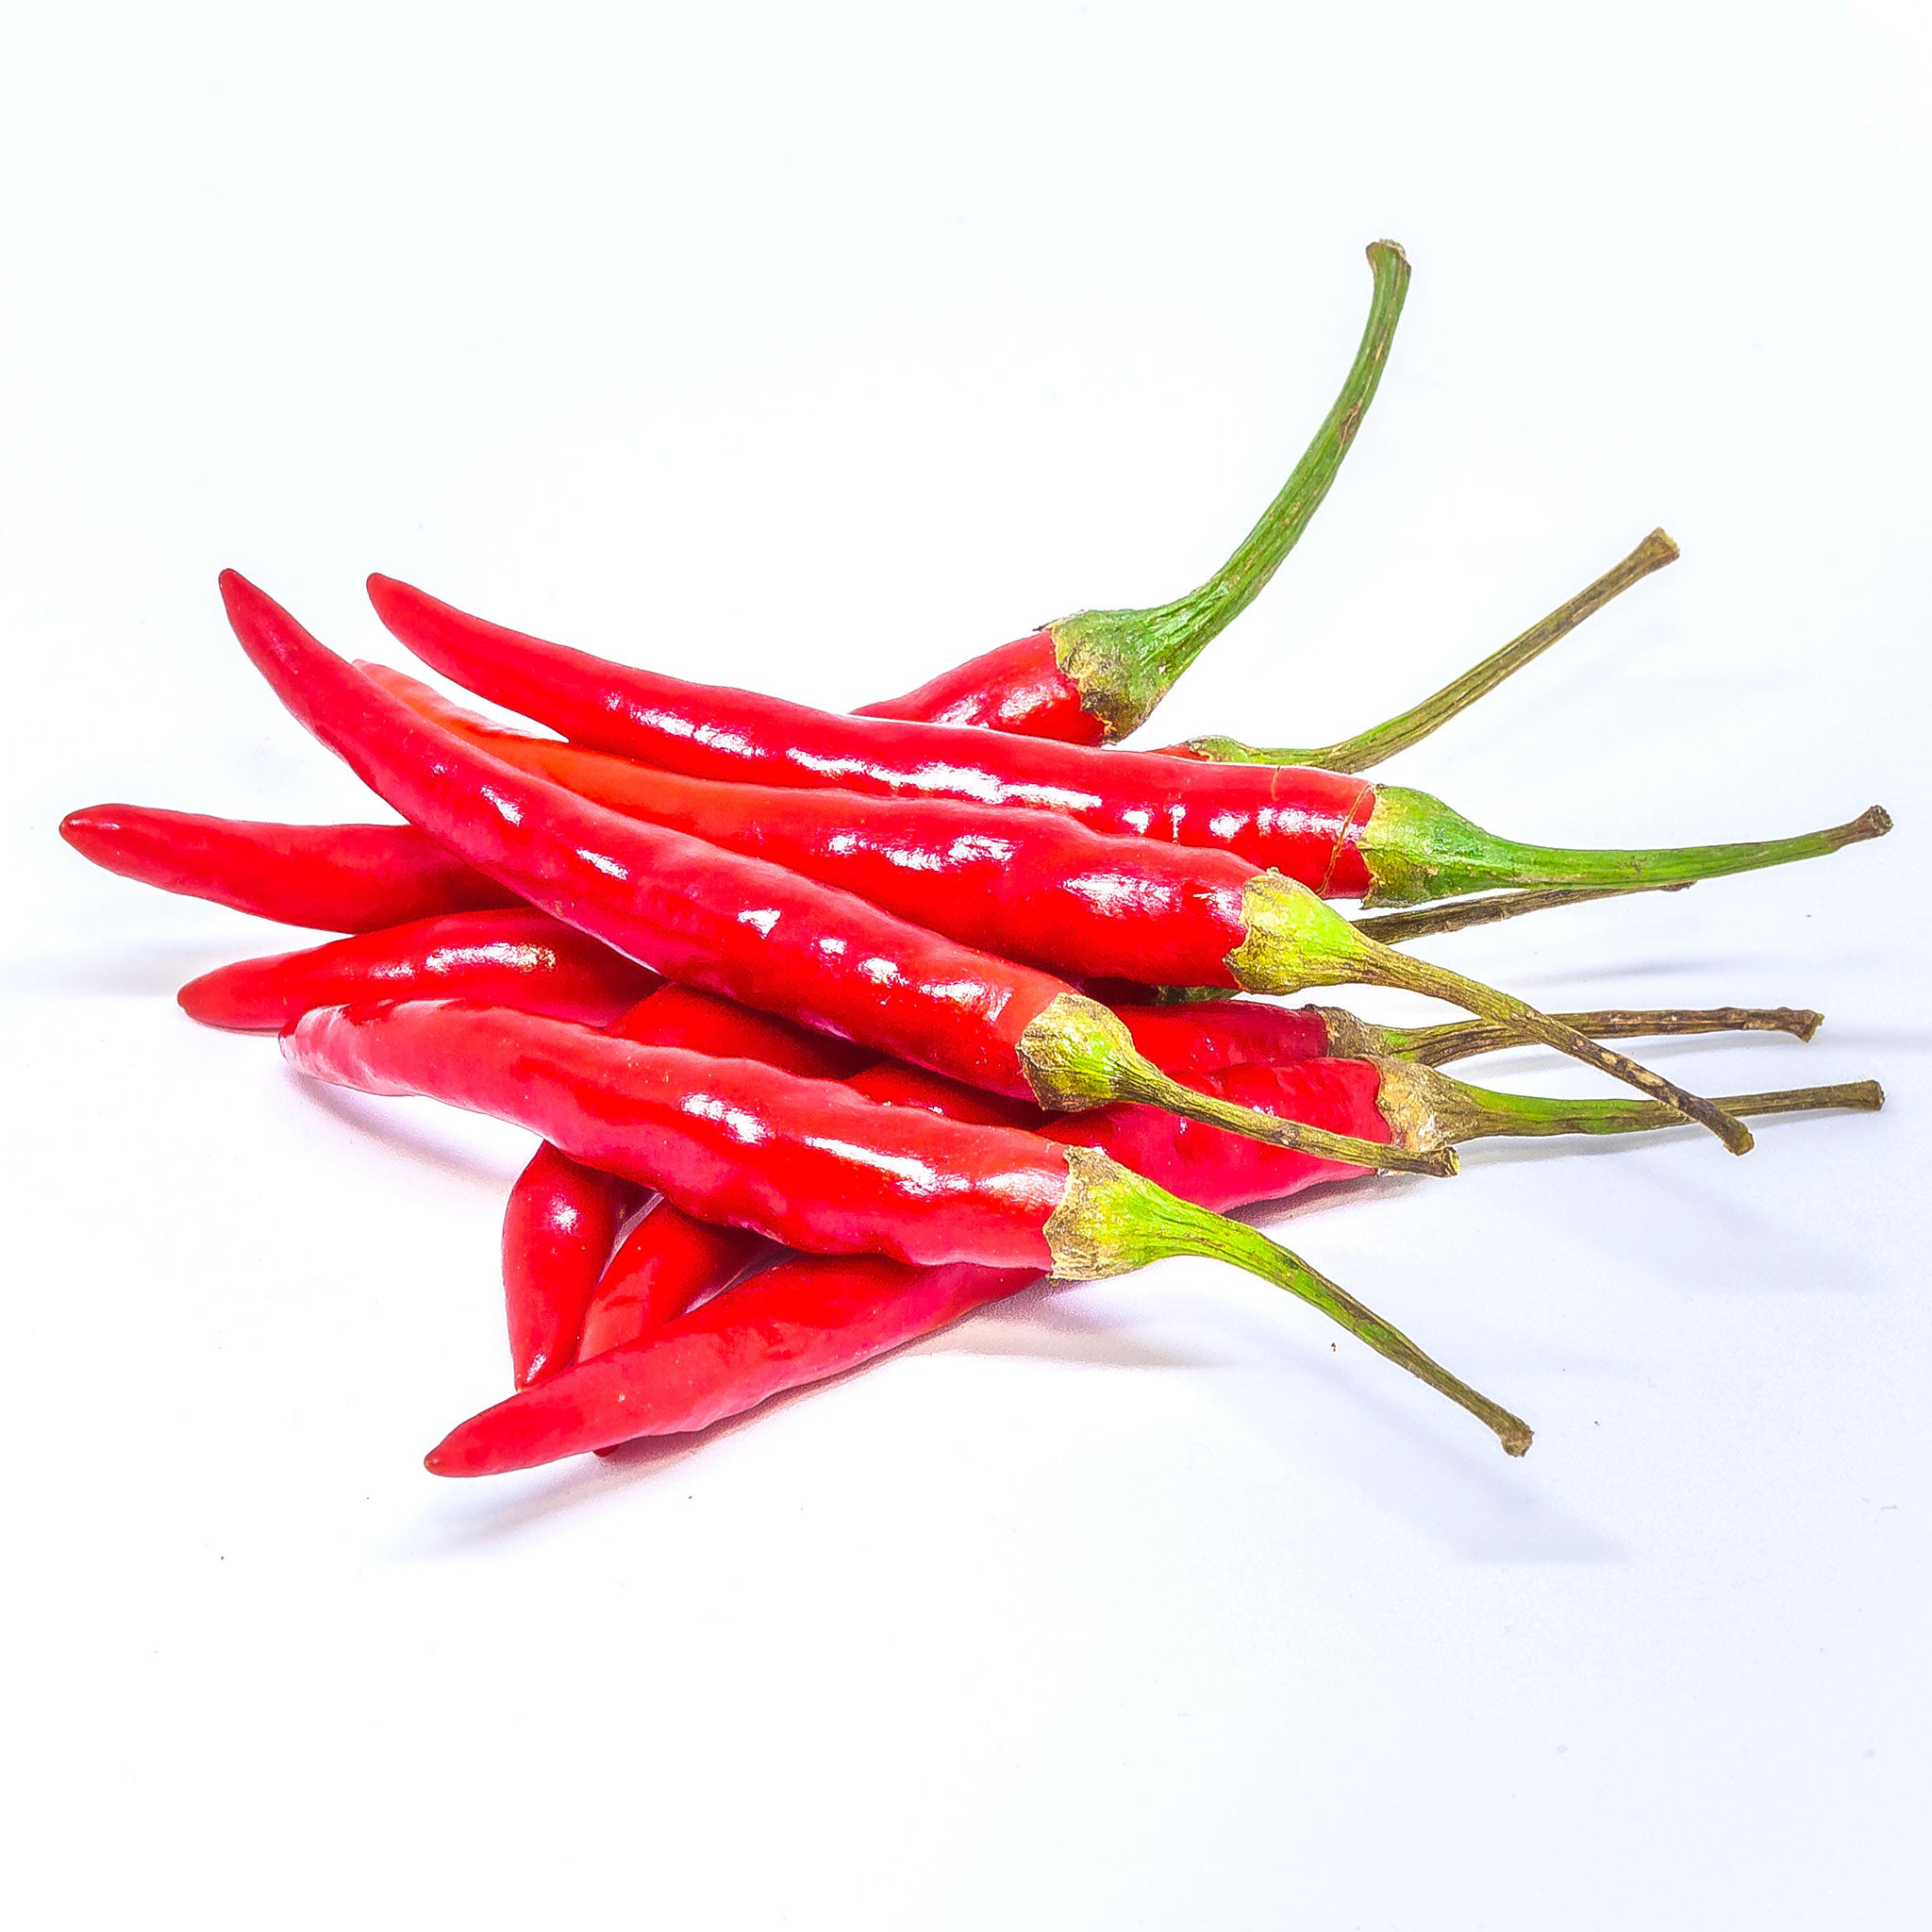Cabai: (25, 253, 1697, 1511)
